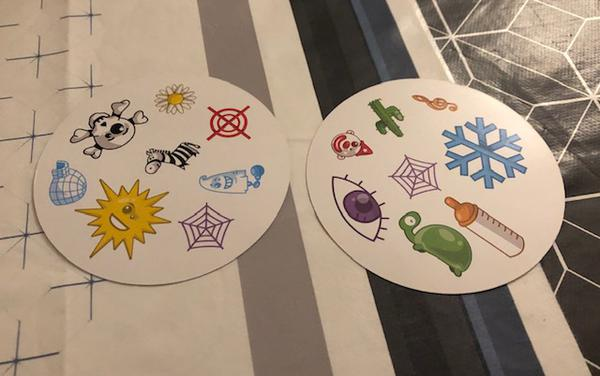biberon: (438, 189, 531, 263)
cactus: (363, 95, 406, 139)
cible: (199, 97, 255, 144)
clown: (323, 126, 376, 162)
fantome: (191, 160, 267, 198)
flocon: (436, 112, 530, 188)
note: (410, 90, 458, 114)
oeuil: (321, 166, 396, 247)
soleil: (73, 172, 175, 263)
tete_mort: (63, 93, 154, 164)
toile: (172, 198, 239, 257), (386, 153, 442, 200)
tortue: (393, 202, 477, 280)
zebre: (137, 134, 208, 177)
